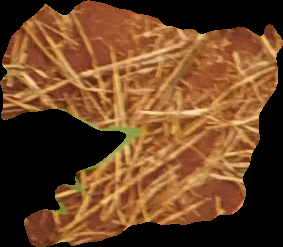soil: (2, 4, 280, 246)
